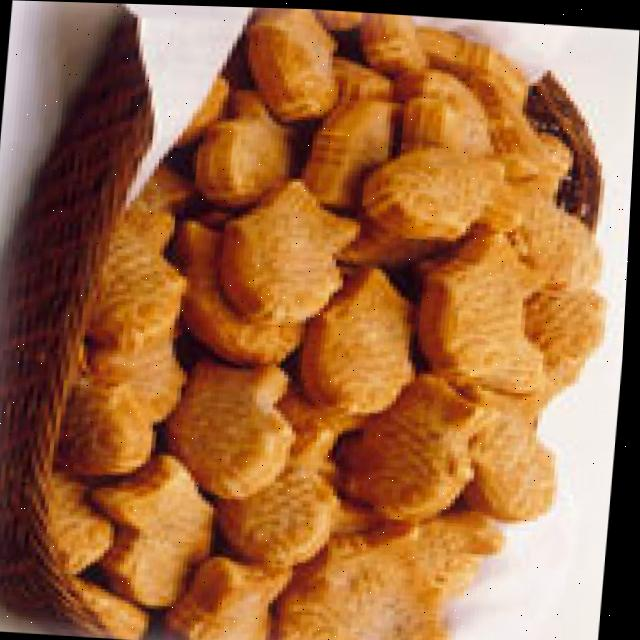熟制海鲜: (34, 1, 634, 640)
